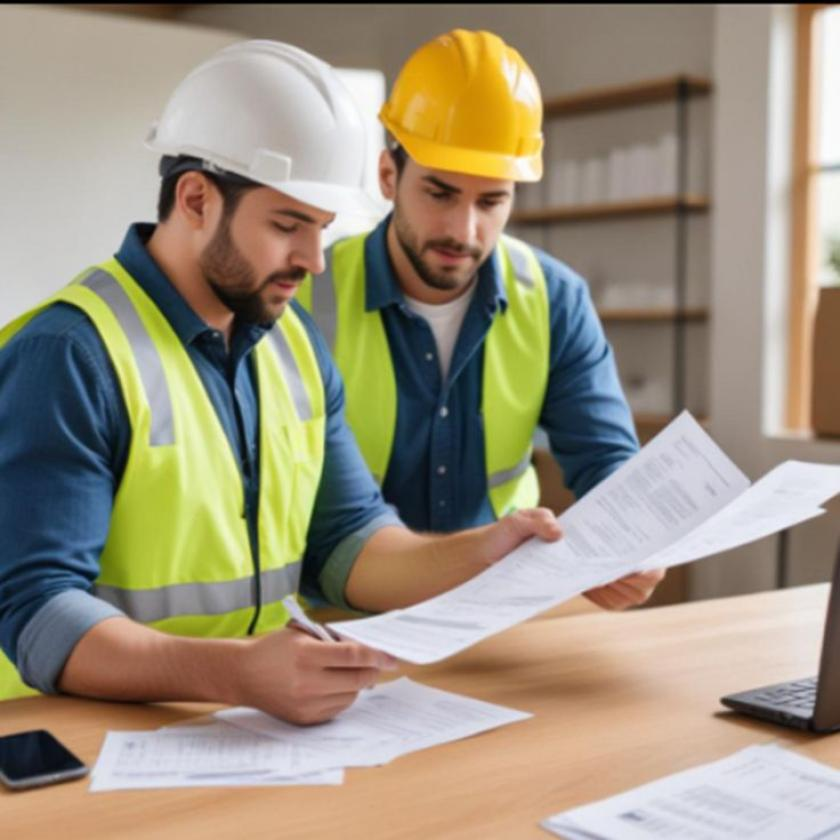Con_casco: (141, 38, 378, 352), (379, 26, 552, 309)
